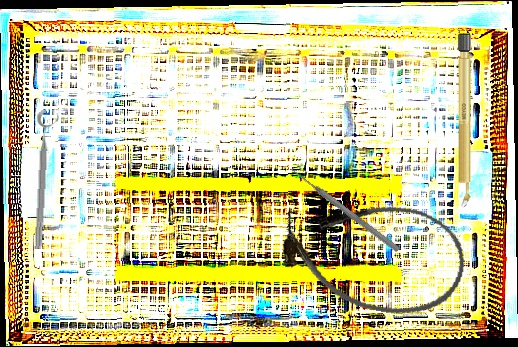Cannula: (271, 185, 475, 326)
Fixation Ring: (30, 109, 61, 250)
Pusher: (288, 165, 402, 254)
Scalpel Handle: (457, 32, 471, 209)
